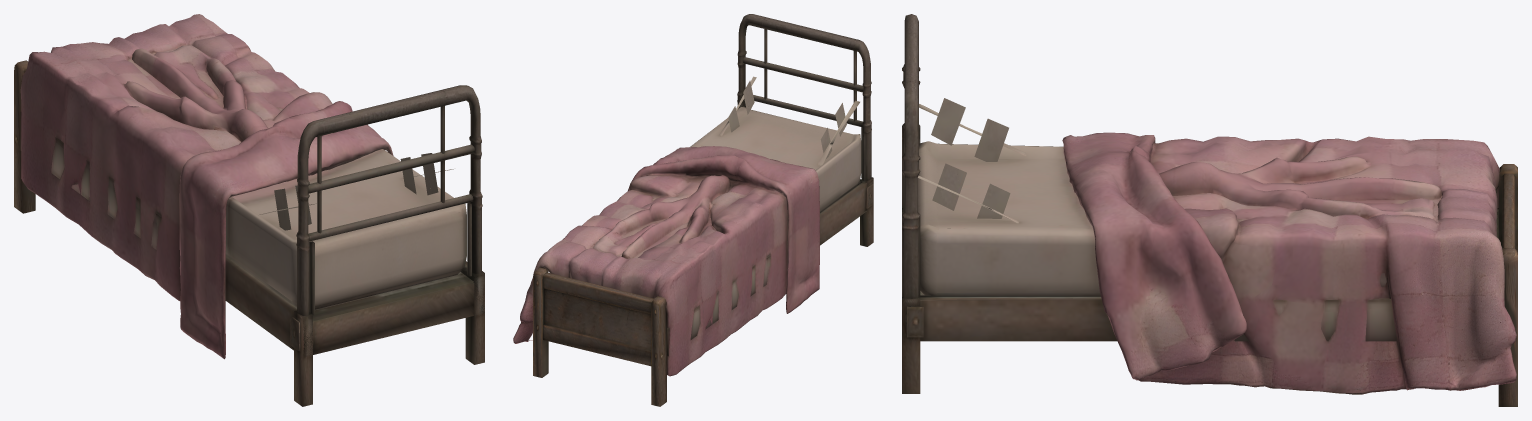
Rendered from bed-v1.glb.
3 renders of one model, left to right at view 1: azimuth 30°, elevation 25°; view 2: azimuth 150°, elevation 25°; view 3: azimuth 270°, elevation 25°, orthographic. The views are drawn at different scales.
Visible parts, largest first — view 1: tripo_node_c048bd2b-f4c1-4625-824b-f8e30dece9d3; view 2: tripo_node_c048bd2b-f4c1-4625-824b-f8e30dece9d3; view 3: tripo_node_c048bd2b-f4c1-4625-824b-f8e30dece9d3.
Part boxes in pixels (x1,y1,x2,y2): tripo_node_c048bd2b-f4c1-4625-824b-f8e30dece9d3: [14, 14, 484, 406]; tripo_node_c048bd2b-f4c1-4625-824b-f8e30dece9d3: [513, 14, 873, 406]; tripo_node_c048bd2b-f4c1-4625-824b-f8e30dece9d3: [902, 14, 1517, 406].
Bounding box in the file's own units: 0.8 × 1.05 × 1.9.
Materials: 1 (1 with a texture image).
